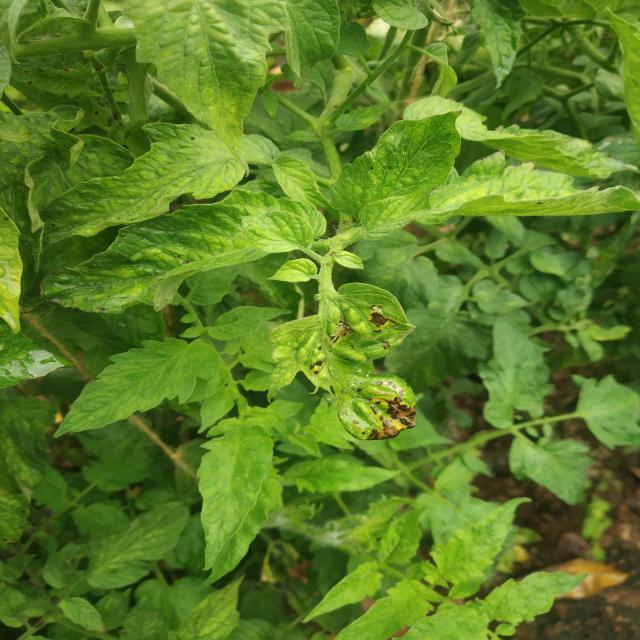Tomato mosaic virus leaf: (299, 284, 423, 446)
